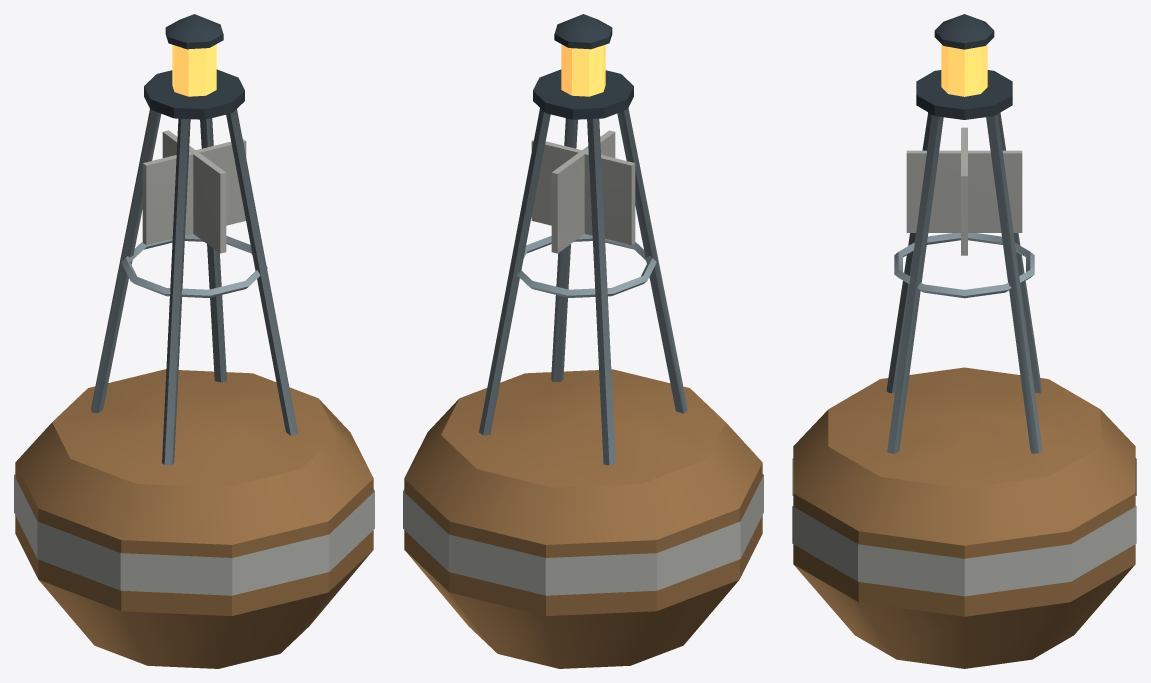
The model's file is harbour-buoy.lod1.glb.
3 renders of one model, left to right at view 1: azimuth 30°, elevation 25°; view 2: azimuth 150°, elevation 25°; view 3: azimuth 270°, elevation 25°, orthographic.
Visible parts, largest first — view 1: structure, lamp; view 2: structure, lamp; view 3: structure, lamp.
Boxes of the visible parts, left/top/right/bottom form: structure: left=14, top=69, right=374, bottom=668; lamp: left=165, top=14, right=223, bottom=96; structure: left=403, top=69, right=763, bottom=668; lamp: left=554, top=14, right=612, bottom=96; structure: left=792, top=70, right=1136, bottom=668; lamp: left=934, top=14, right=994, bottom=96.
Bounding box in the file's own units: 1.57 × 2.95 × 1.49.
